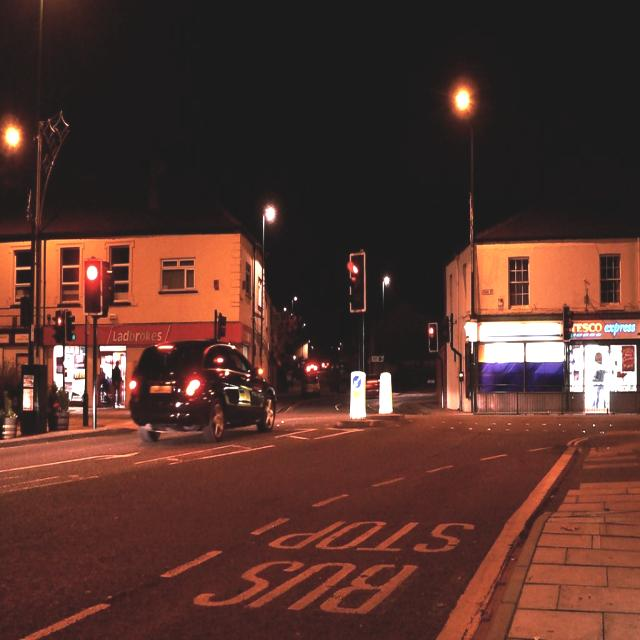Car: (129, 340, 273, 445)
